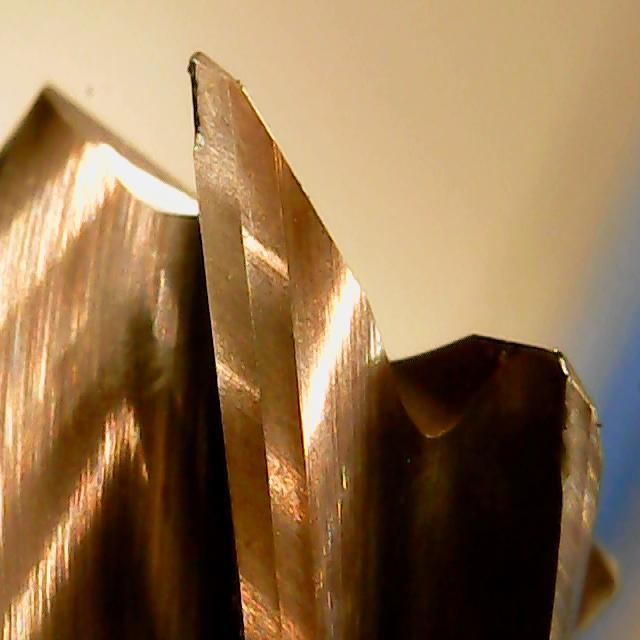Tool-wear-class-1: (174, 49, 307, 371)
